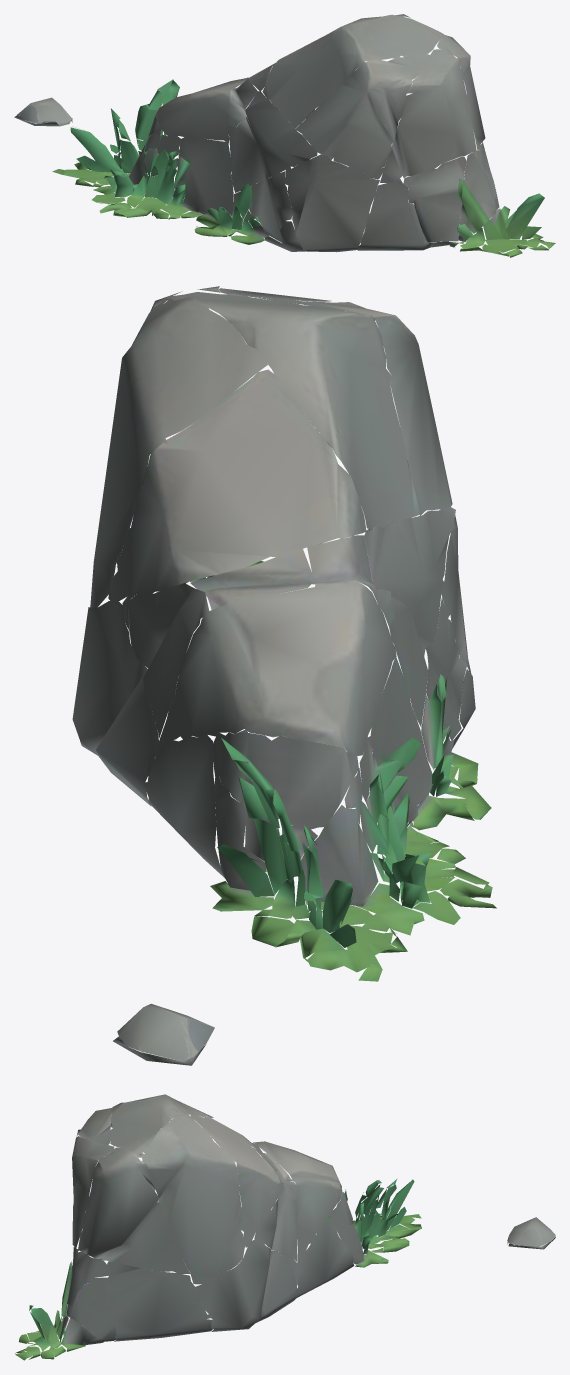
The model's file is green15.glb.
3 renders of one model, top to bottom at view 1: azimuth 30°, elevation 25°; view 2: azimuth 150°, elevation 25°; view 3: azimuth 270°, elevation 25°, orthographic. The views are drawn at different scales.
Parts seen in each view (by area): view 1: tripo_node_841a41a4-7fd5-42dd-b8a2-0e4eeda0c039; view 2: tripo_node_841a41a4-7fd5-42dd-b8a2-0e4eeda0c039; view 3: tripo_node_841a41a4-7fd5-42dd-b8a2-0e4eeda0c039.
Part boxes in pixels (x1,y1,x2,y2): tripo_node_841a41a4-7fd5-42dd-b8a2-0e4eeda0c039: (14,14,555,257); tripo_node_841a41a4-7fd5-42dd-b8a2-0e4eeda0c039: (72,286,496,1065); tripo_node_841a41a4-7fd5-42dd-b8a2-0e4eeda0c039: (15,1094,555,1360).
Bounding box in the file's own units: 0.6485 × 0.4057 × 0.9987.
Materials: 1 (1 with a texture image).
